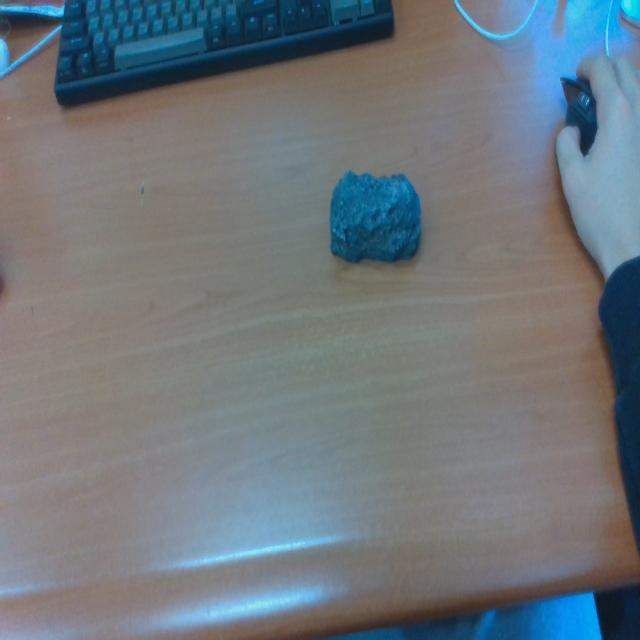stone: (330, 168, 422, 266)
